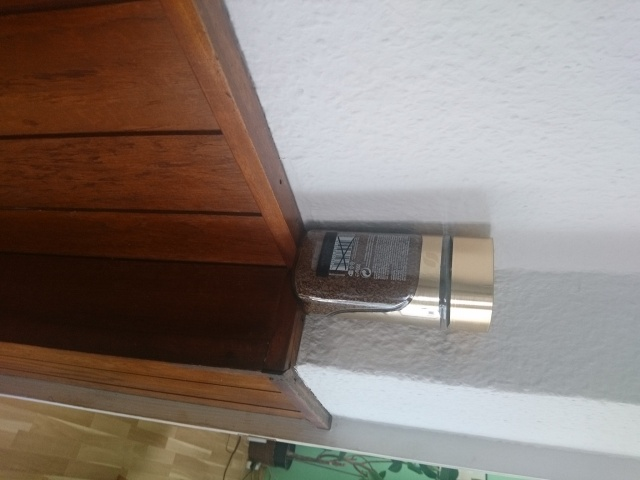Nescafe Gold 225g: (288, 226, 497, 336)
